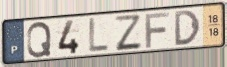4: (57, 19, 80, 56)
D: (173, 8, 202, 47)
F: (144, 11, 171, 49)
L: (88, 16, 110, 53)
Q: (26, 21, 53, 60)
Z: (113, 13, 144, 53)
